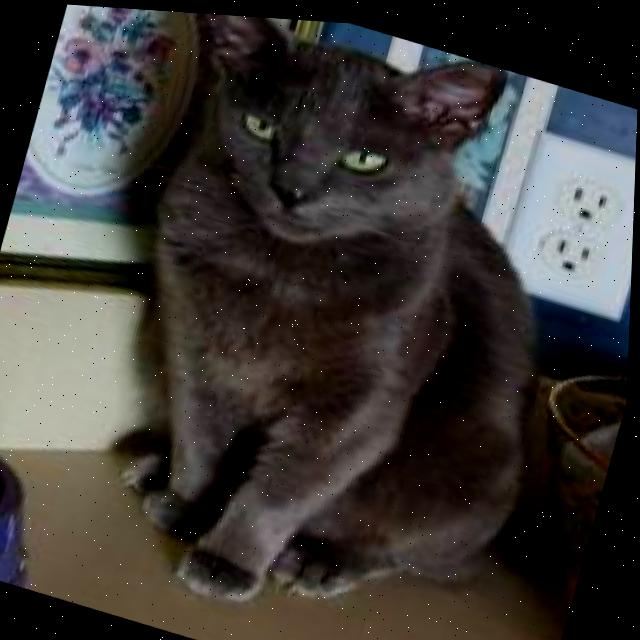Russian Blue: (39, 3, 632, 640)
